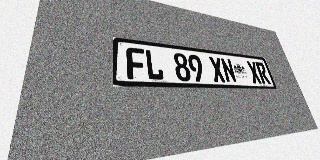8: (173, 52, 192, 81)
9: (187, 54, 206, 82)
F: (126, 47, 146, 80)
L: (144, 49, 164, 80)
N: (220, 58, 237, 83)
R: (255, 62, 271, 84)
X: (208, 56, 226, 82), (246, 61, 262, 84)
